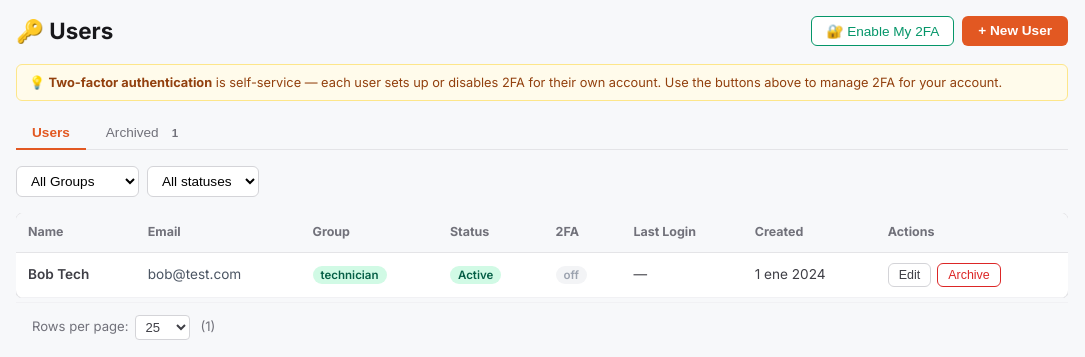
Test case: UserList page › Archive action (main tab) + Archived tab › renders archived rows (name, email, group, archived date) from GET /users?only_deleted=true
Expected: the text "bob@test.com" is shown, [136, 252, 300, 297]
Click the tab "Archived1".
click(145, 133)  # box [90, 117, 201, 150]
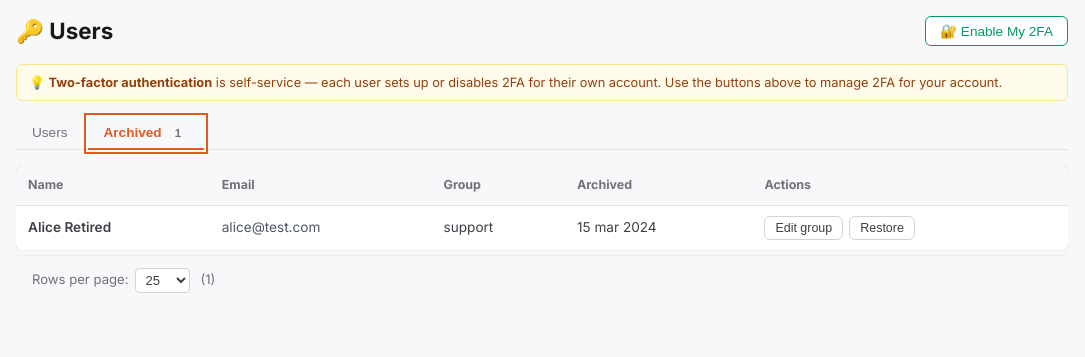
Expected: the text "alice@test.com" is shown, [210, 205, 432, 250]
Expected: the text "Alice Retired" is shown, [28, 219, 111, 235]
Expected: the text "support" is shown, [432, 205, 565, 250]
